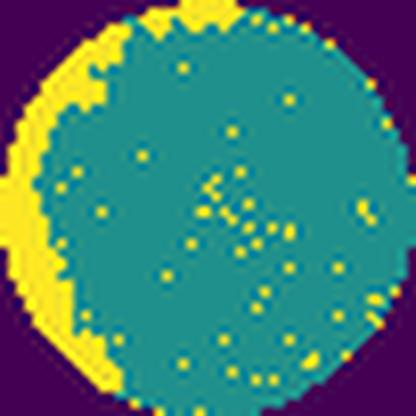Edge-Loc: (0, 20, 130, 395), (137, 0, 245, 45)
